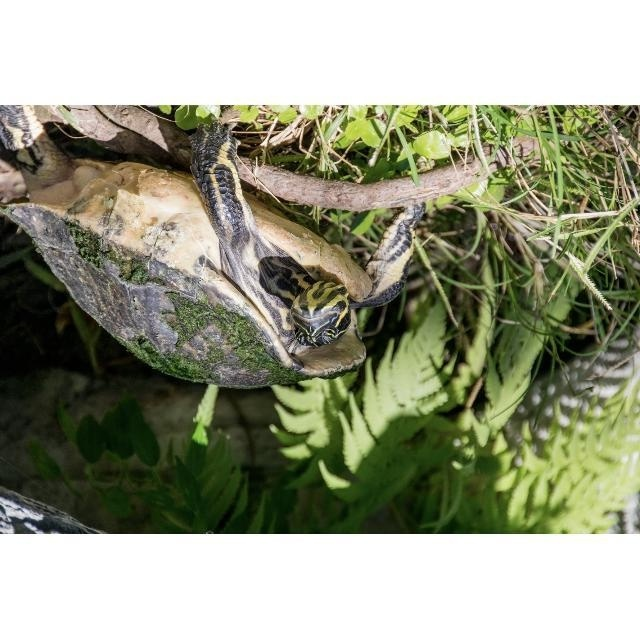turtle: (5, 107, 424, 391)
